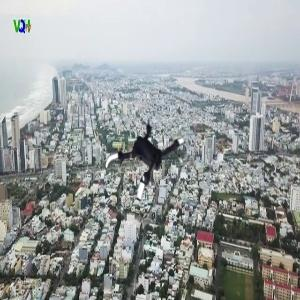drone: (103, 110, 197, 204)
